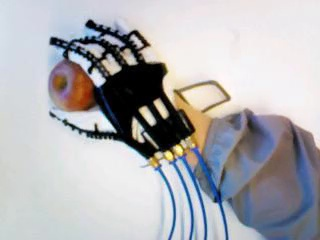apple: (47, 58, 96, 112)
hand: (47, 19, 195, 167)
